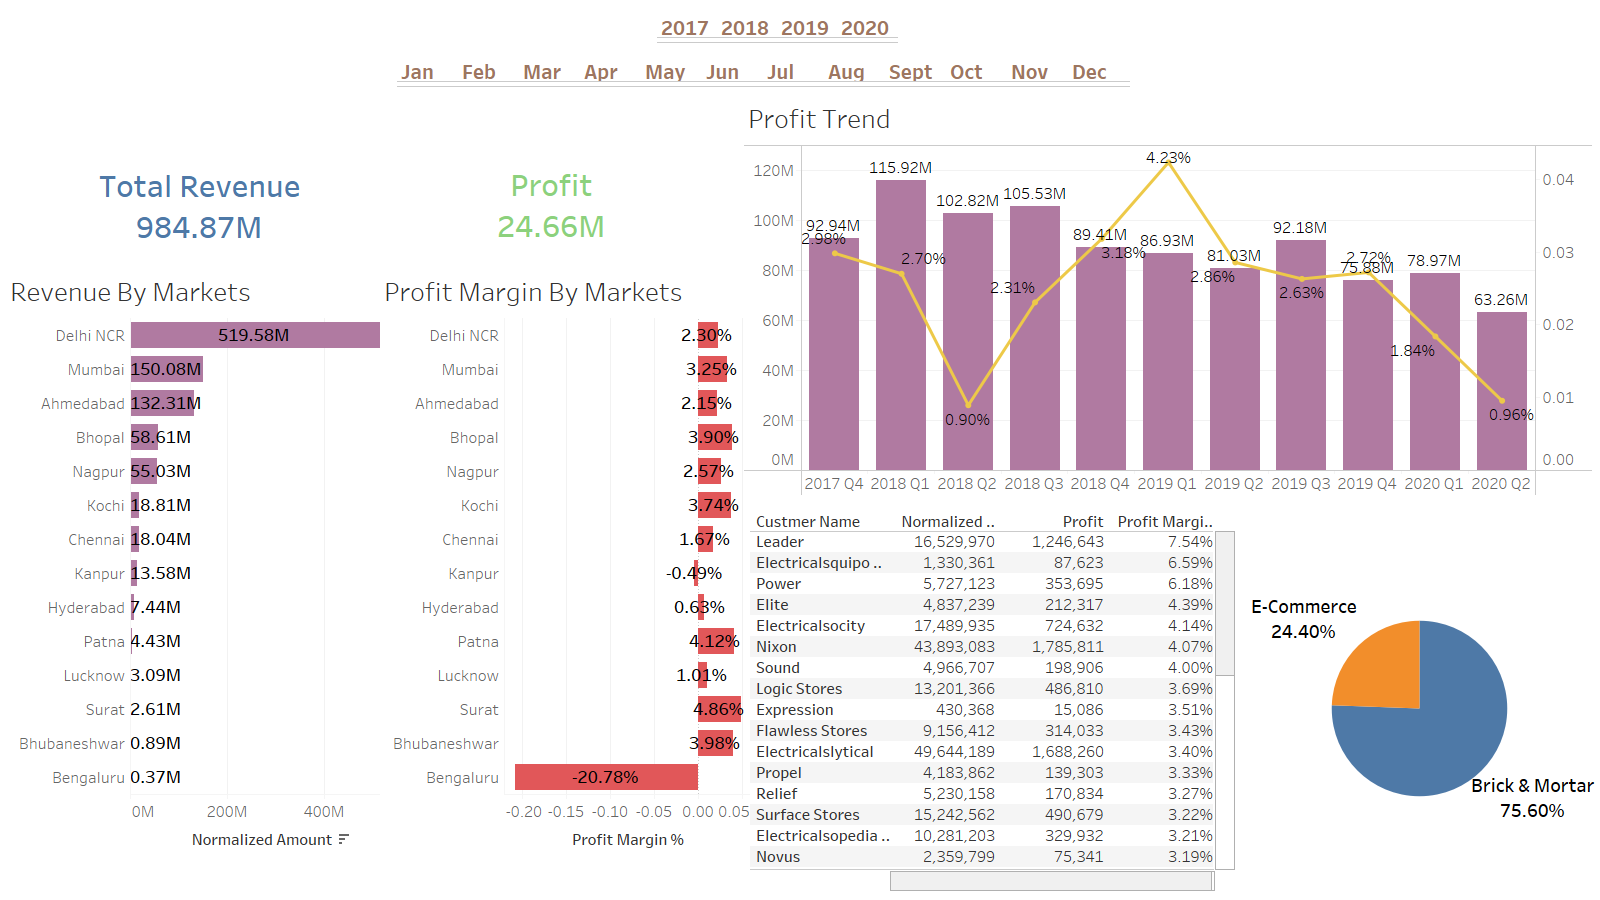

This screenshot's page, from the dashboard's own definition file:
{"tool":"tableau","page":{"name":"Dashboard - Profit Analisis","canvas":[1600,900],"ordinal":0},"visuals":[{"type":"worksheet","title":"Year","mark":"Automatic","cols":["cy_date"],"box":[657.1,2,268.8,50]},{"type":"worksheet","title":"Month","mark":"Automatic","cols":["cy_date"],"box":[396.8,46,791.5,58]},{"type":"worksheet","title":"Profit Trend","mark":"Bar","rows":["Calculation_1678998249550069760","Calculation_1175158041276698624"],"cols":["cy_date"],"box":[744,95,850,401]},{"type":"worksheet","title":"Profit","mark":"Automatic","box":[492,149,123,106]},{"type":"worksheet","title":"Revenue","mark":"Automatic","box":[90,150,236,102]},{"type":"worksheet","title":"Revenue By Markets","mark":"Automatic","rows":["markets_name"],"cols":["Calculation_1678998249550069760"],"box":[6,268,388,626]},{"type":"worksheet","title":"Profit Margin By Markets","mark":"Automatic","rows":["markets_name"],"cols":["Calculation_1175158041276698624"],"box":[380,268,372,622]},{"type":"worksheet","title":"Customer Table","mark":"Automatic","rows":["custmer_name"],"box":[750,496,485,395]},{"type":"worksheet","title":"Pie Chart","mark":"Pie","box":[1244,507,351,388]}]}

Visuals, with their boxes in screenshot pixels (x1, y1, x2, y2), scaled from the page's 1600x900 canvas onto the 1600x900 screenshot:
"Year" worksheet: (left=657, top=2, right=926, bottom=52)
"Month" worksheet: (left=397, top=46, right=1188, bottom=104)
"Profit Trend" worksheet (Bar marks): (left=744, top=95, right=1594, bottom=496)
"Profit" worksheet: (left=492, top=149, right=615, bottom=255)
"Revenue" worksheet: (left=90, top=150, right=326, bottom=252)
"Revenue By Markets" worksheet: (left=6, top=268, right=394, bottom=894)
"Profit Margin By Markets" worksheet: (left=380, top=268, right=752, bottom=890)
"Customer Table" worksheet: (left=750, top=496, right=1235, bottom=891)
"Pie Chart" worksheet (Pie marks): (left=1244, top=507, right=1595, bottom=895)
